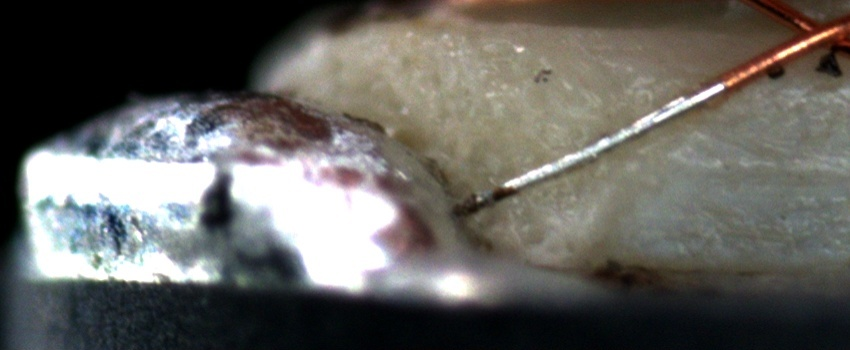CL: (771, 4, 847, 62)
DL: (658, 142, 850, 208)
TS: (469, 78, 727, 211)
